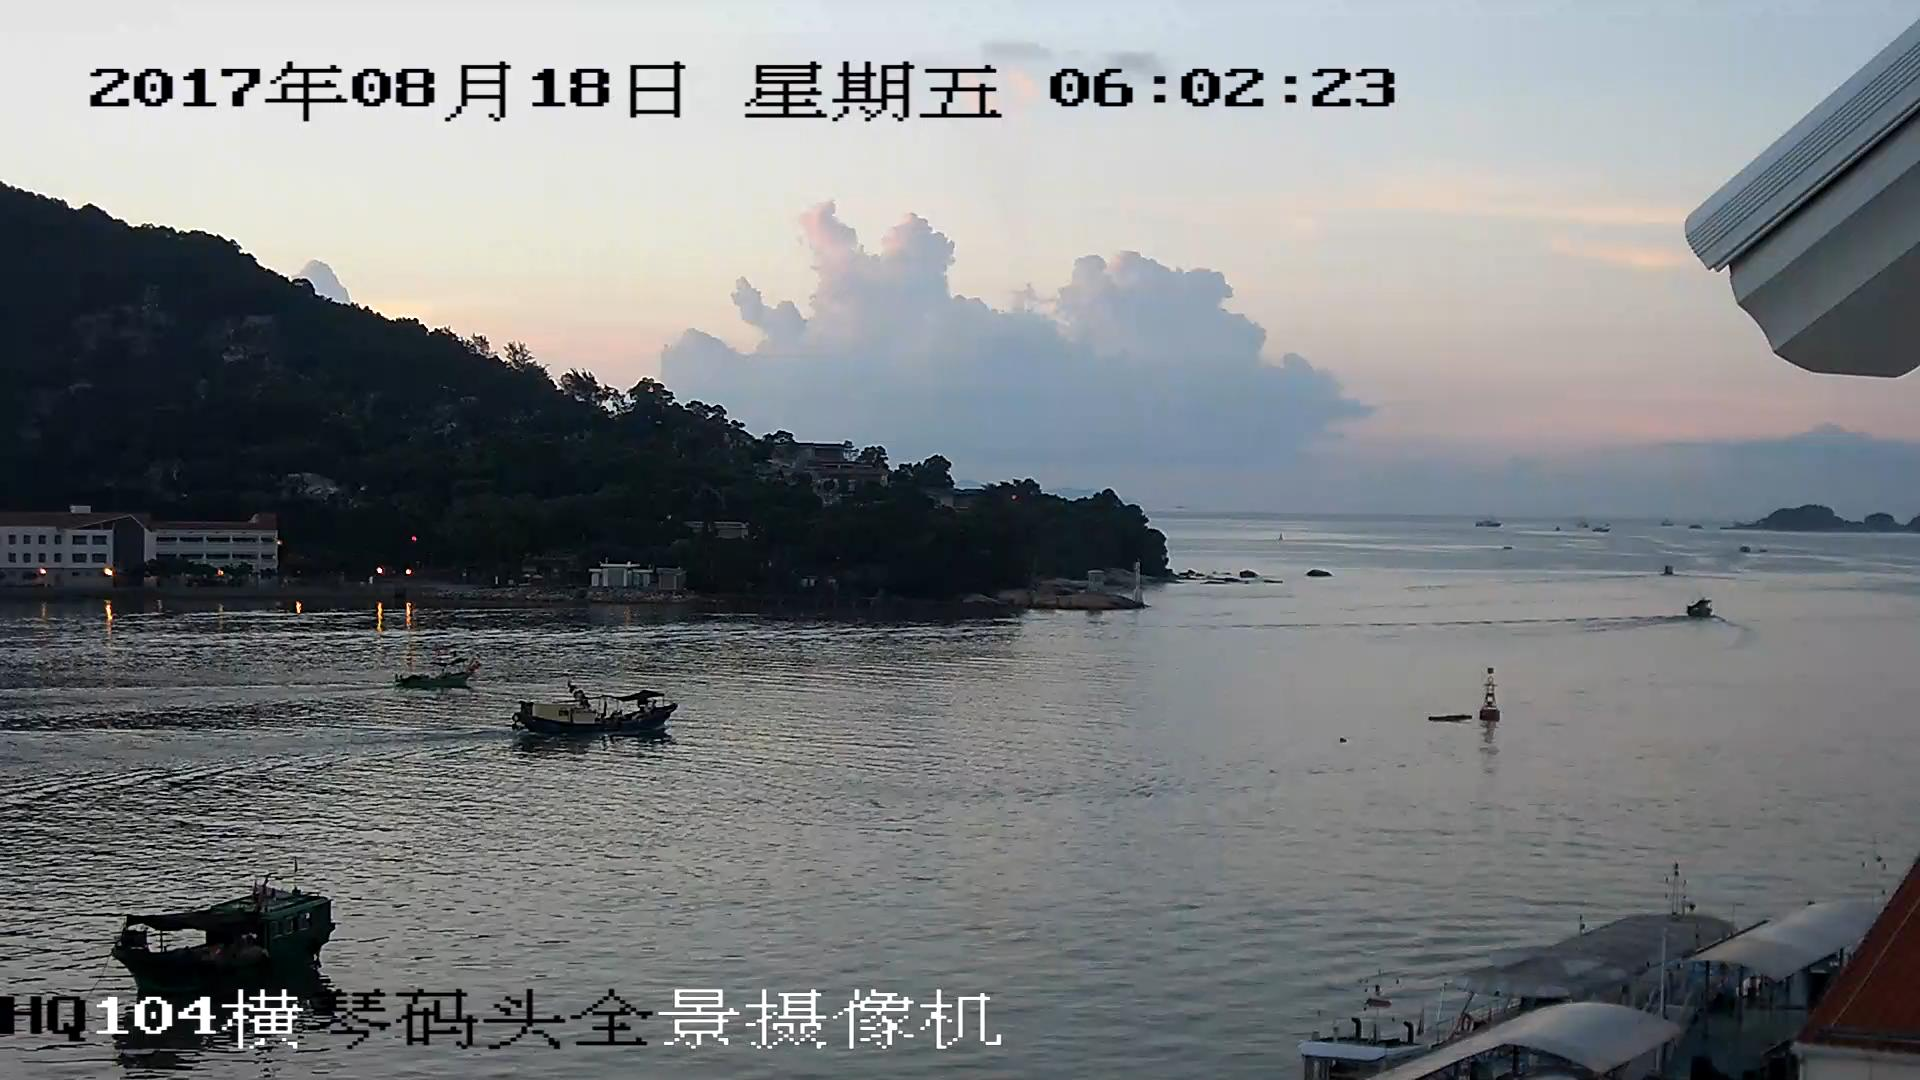fishing boat: (114, 888, 334, 974), (511, 686, 675, 736), (400, 663, 477, 690)
